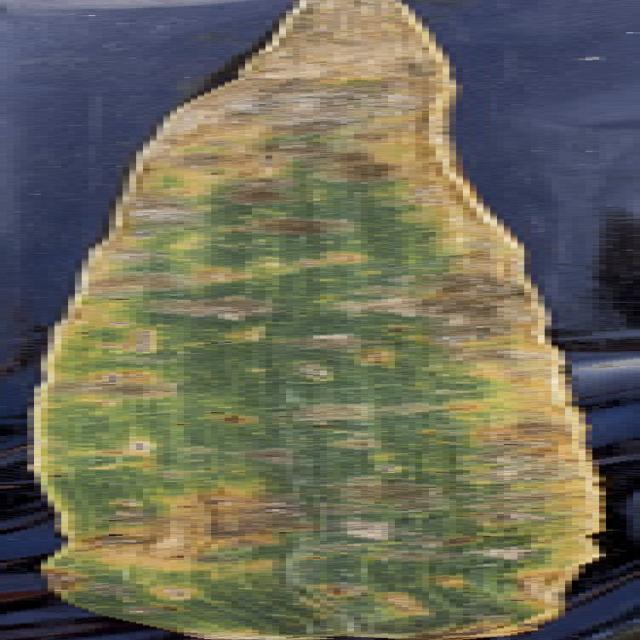wheat-stemrust: (29, 0, 606, 640)
